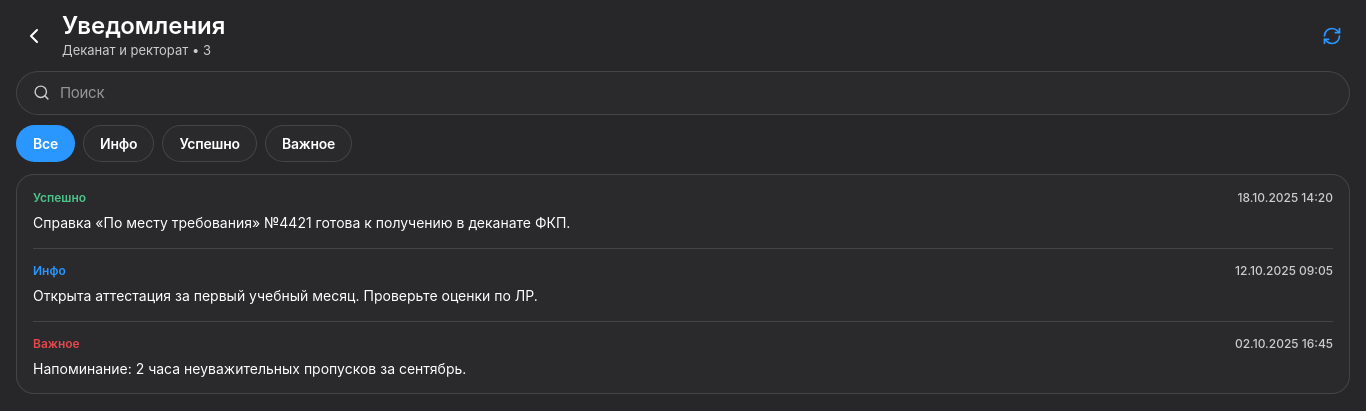
M4 Screens Suite › NotificationsScreen loads notifications, auto-marks unread read, and filters by type and search
The width and height of the screenshot is (1366, 411).
Expected: the text "Справка «По месту требования»" is shown, [33,214,570,231]
Click the button "Важное" at (309, 143), box [265,124,352,162]
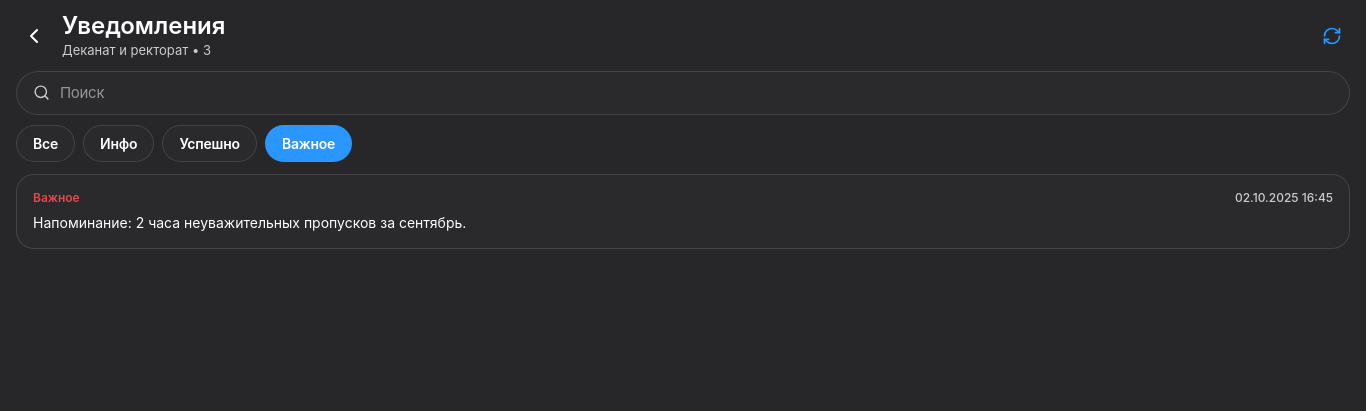
Expected: the text "Напоминание: 2 часа неуважительных пропусков за сентябрь." is shown, [33,214,466,231]
Expected: the text "Справка «По месту требования»" is gone
Click the button "Все" at (46, 143), box [16,124,75,162]
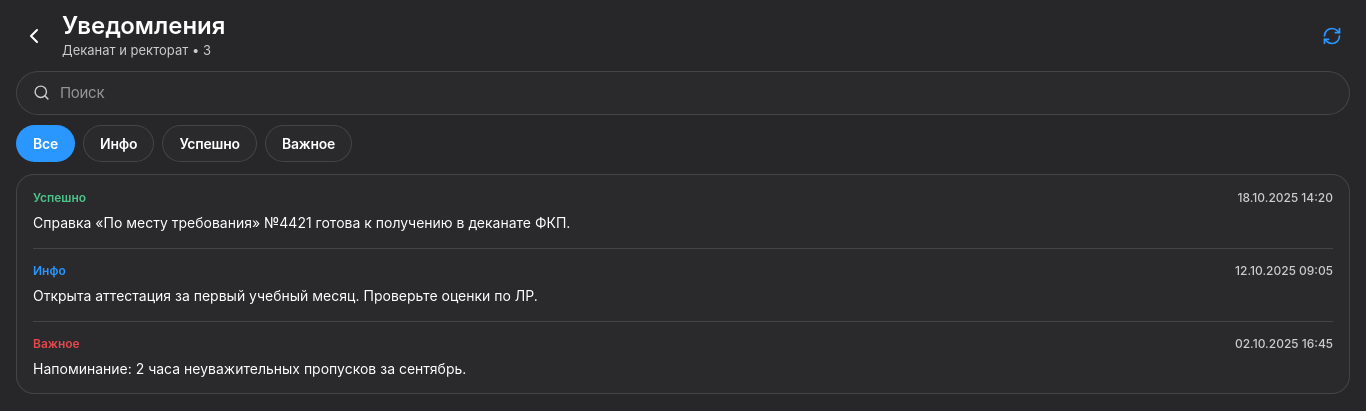
Type "аттестация" into the field with placeholder "Поиск" at (696, 92), box [60,82,1333,102]
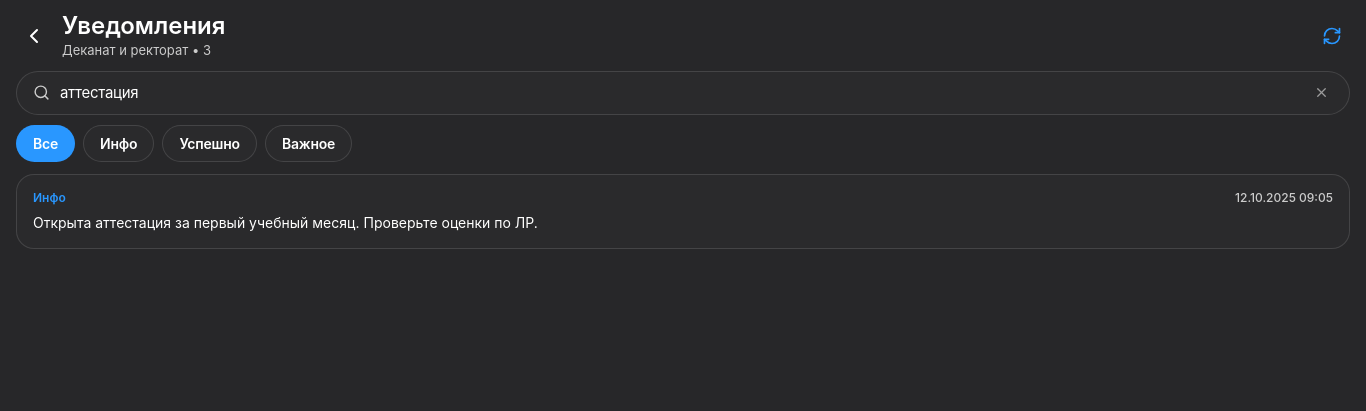
Expected: the text "Открыта аттестация" is shown, [33,214,538,231]
Expected: the text "2 часа неуважительных пропусков" is gone
